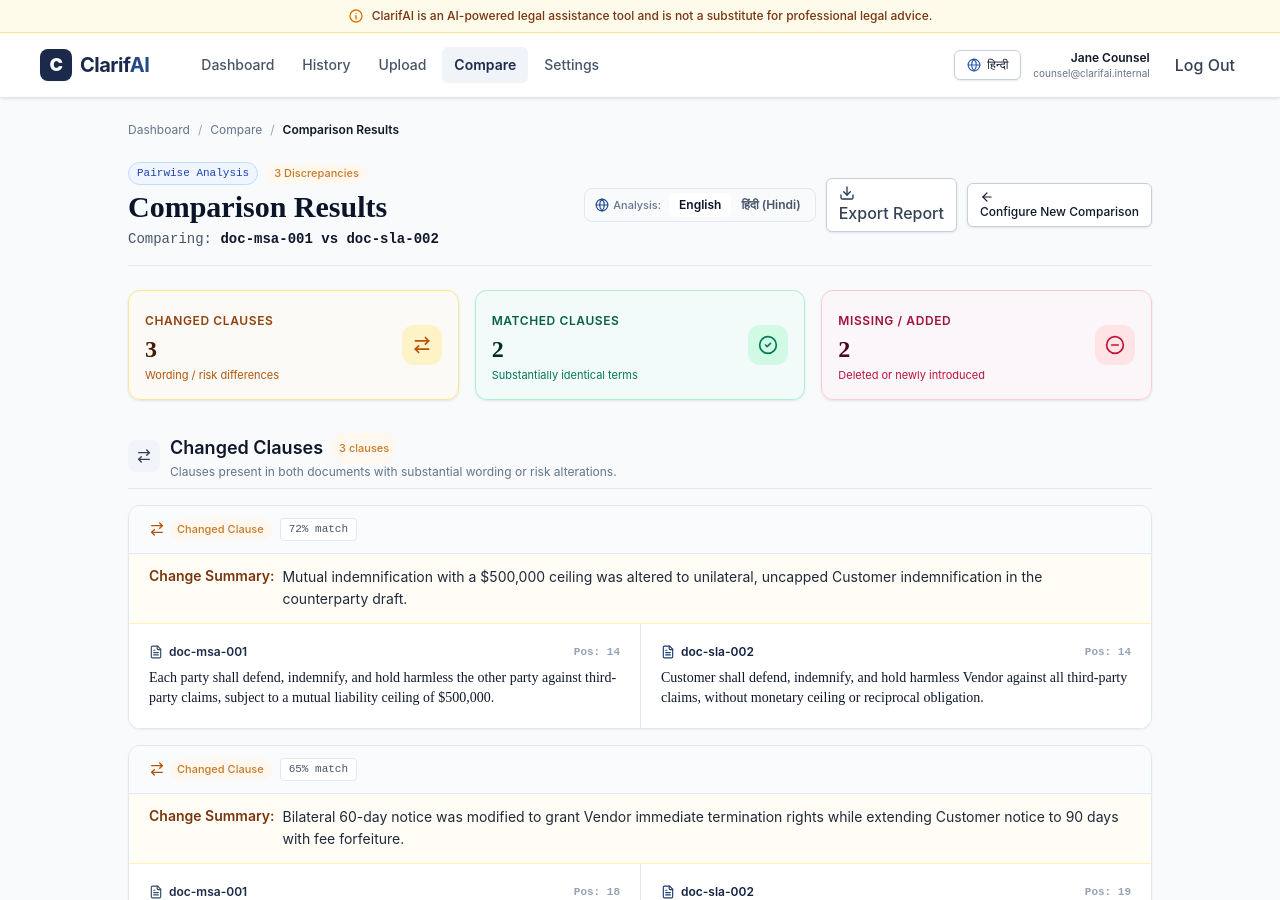
Scenario: Comparison Pages (PRD Ch. 18, 22.10 & Section 8.5) › ComparisonResultsPage (/compare/:id or /compare/:idA/:idB) › toggles language to Hindi and displays translated explanations
Expected: the heading "Changed Clauses 3 clauses" is shown, [170,432,397,464]
Click the button named "Switch analysis language to Hindi": [771, 205] box [731,193,811,217]
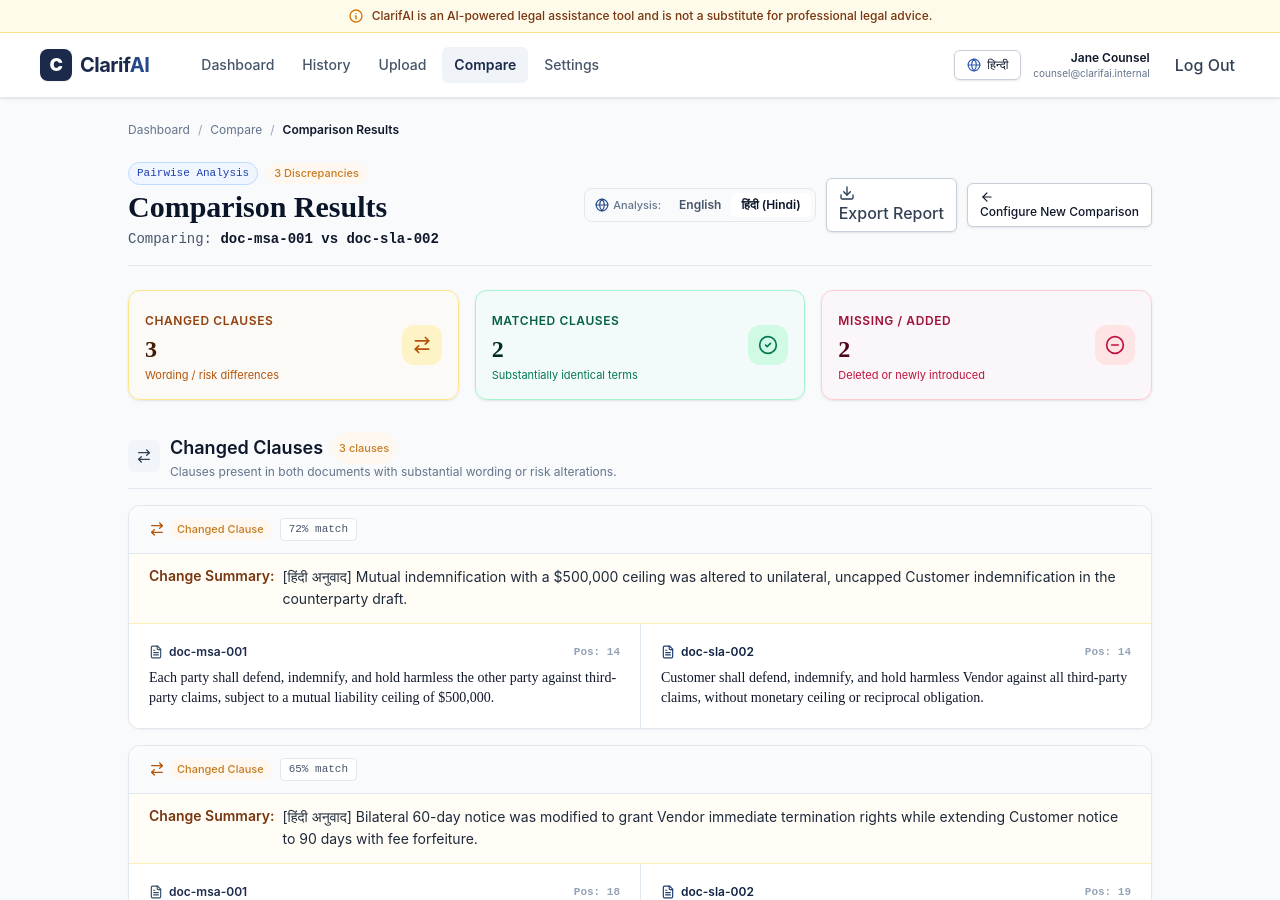
Now the text "[हिंदी अनुवाद]" is shown, box [282,568,1116,607]
